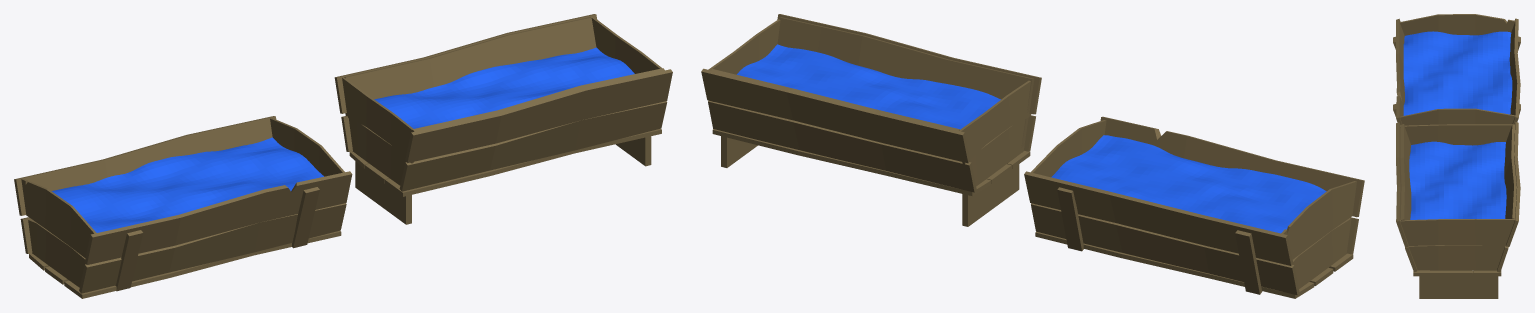
Rendered from Troughs.fbx.
The picture shows the model from 3 angles, left to right: view 1: azimuth 30°, elevation 25°; view 2: azimuth 150°, elevation 25°; view 3: azimuth 270°, elevation 25°; orthographic projection. The views are drawn at different scales.
Visible parts, largest first — view 1: Plane.001, Plane, Cube.019, Cube.004, Cube.031, Cube.018, Cube.003, Cube.006, Cube.009, Cube.024, Cube.010, Cube.025 (+10 smaller); view 2: Plane.001, Plane, Cube.021, Cube.020, Cube.006, Cube.029, Cube.005, Cube.004, Cube.009, Cube.024, Cube.010, Cube.025 (+10 smaller); view 3: Plane.001, Plane, Cube.022, Cube.023, Cube.024, Cube.009, Cube.027, Cube.007, Cube.031, Cube.029, Cube.006, Cube.004 (+7 smaller).
Part boxes in pixels (<box>): Plane.001: <box>52,137,323,232</box>; Plane: <box>374,47,634,128</box>; Cube.019: <box>405,69,672,162</box>; Cube.004: <box>85,171,352,264</box>; Cube.031: <box>344,17,596,99</box>; Cube.018: <box>399,101,667,191</box>; Cube.003: <box>79,203,346,293</box>; Cube.006: <box>14,116,276,215</box>; Cube.009: <box>21,178,96,257</box>; Cube.024: <box>342,77,413,163</box>; Cube.010: <box>28,219,85,287</box>; Cube.025: <box>348,118,406,185</box>; Plane.001: <box>1051,135,1326,233</box>; Plane: <box>737,44,1000,129</box>; Cube.021: <box>701,68,970,163</box>; Cube.020: <box>708,100,976,192</box>; Cube.006: <box>1024,171,1293,265</box>; Cube.029: <box>777,17,1034,112</box>; Cube.005: <box>1031,203,1299,295</box>; Cube.004: <box>1100,116,1364,217</box>; Cube.009: <box>1281,181,1356,259</box>; Cube.024: <box>959,80,1031,164</box>; Cube.010: <box>1292,217,1351,288</box>; Cube.025: <box>969,119,1026,186</box>; Plane.001: <box>1403,31,1512,115</box>; Plane: <box>1409,141,1506,219</box>; Cube.022: <box>1400,219,1514,245</box>; Cube.023: <box>1408,245,1506,270</box>; Cube.024: <box>1400,124,1514,145</box>; Cube.009: <box>1400,14,1514,35</box>; Cube.027: <box>1419,271,1498,298</box>; Cube.007: <box>1400,108,1515,125</box>; Cube.031: <box>1504,124,1516,218</box>; Cube.029: <box>1400,124,1411,220</box>; Cube.006: <box>1509,18,1520,124</box>; Cube.004: <box>1396,18,1404,124</box>.
Size of the model in its own units: 110 by 78.51 by 451.
